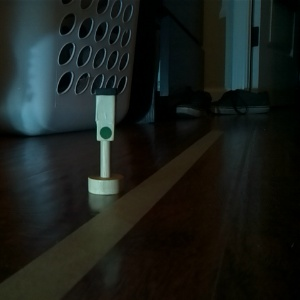traffic light green: (86, 86, 125, 196)
